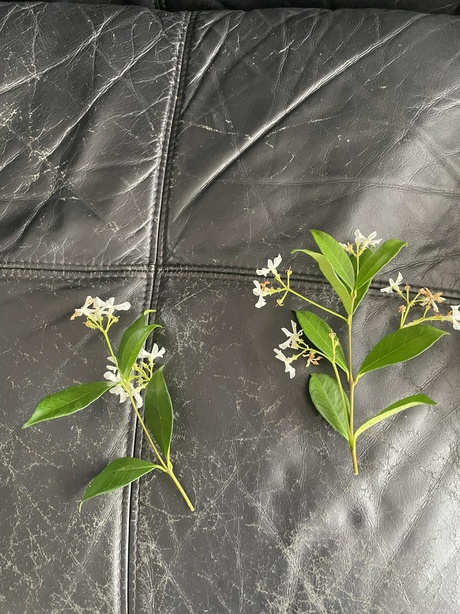leaf: (358, 320, 453, 376), (287, 305, 353, 373), (300, 363, 355, 442), (72, 456, 162, 502), (25, 383, 110, 430)
